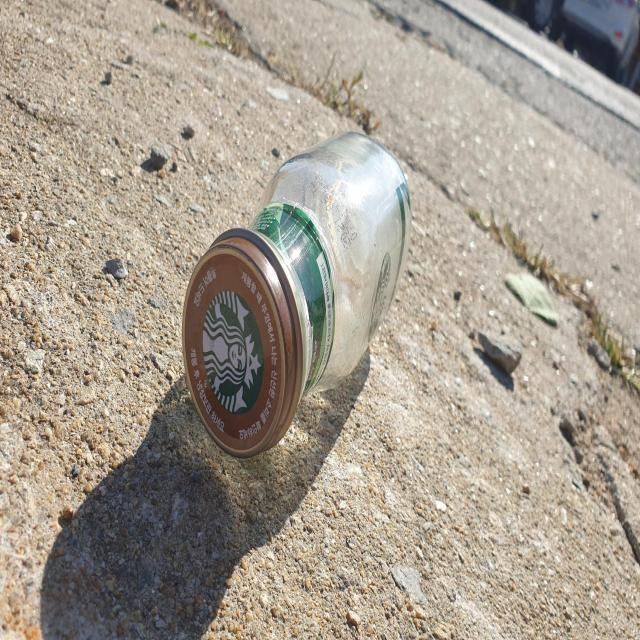glass: (182, 131, 412, 457)
